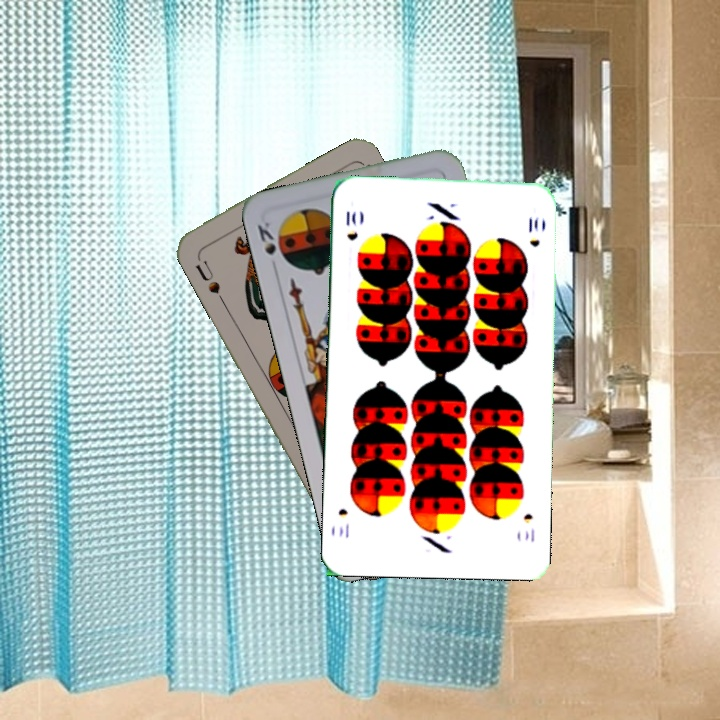S10: (342, 207, 360, 243), (519, 509, 537, 545)
SK: (253, 217, 279, 258)
SU: (191, 256, 223, 297)
